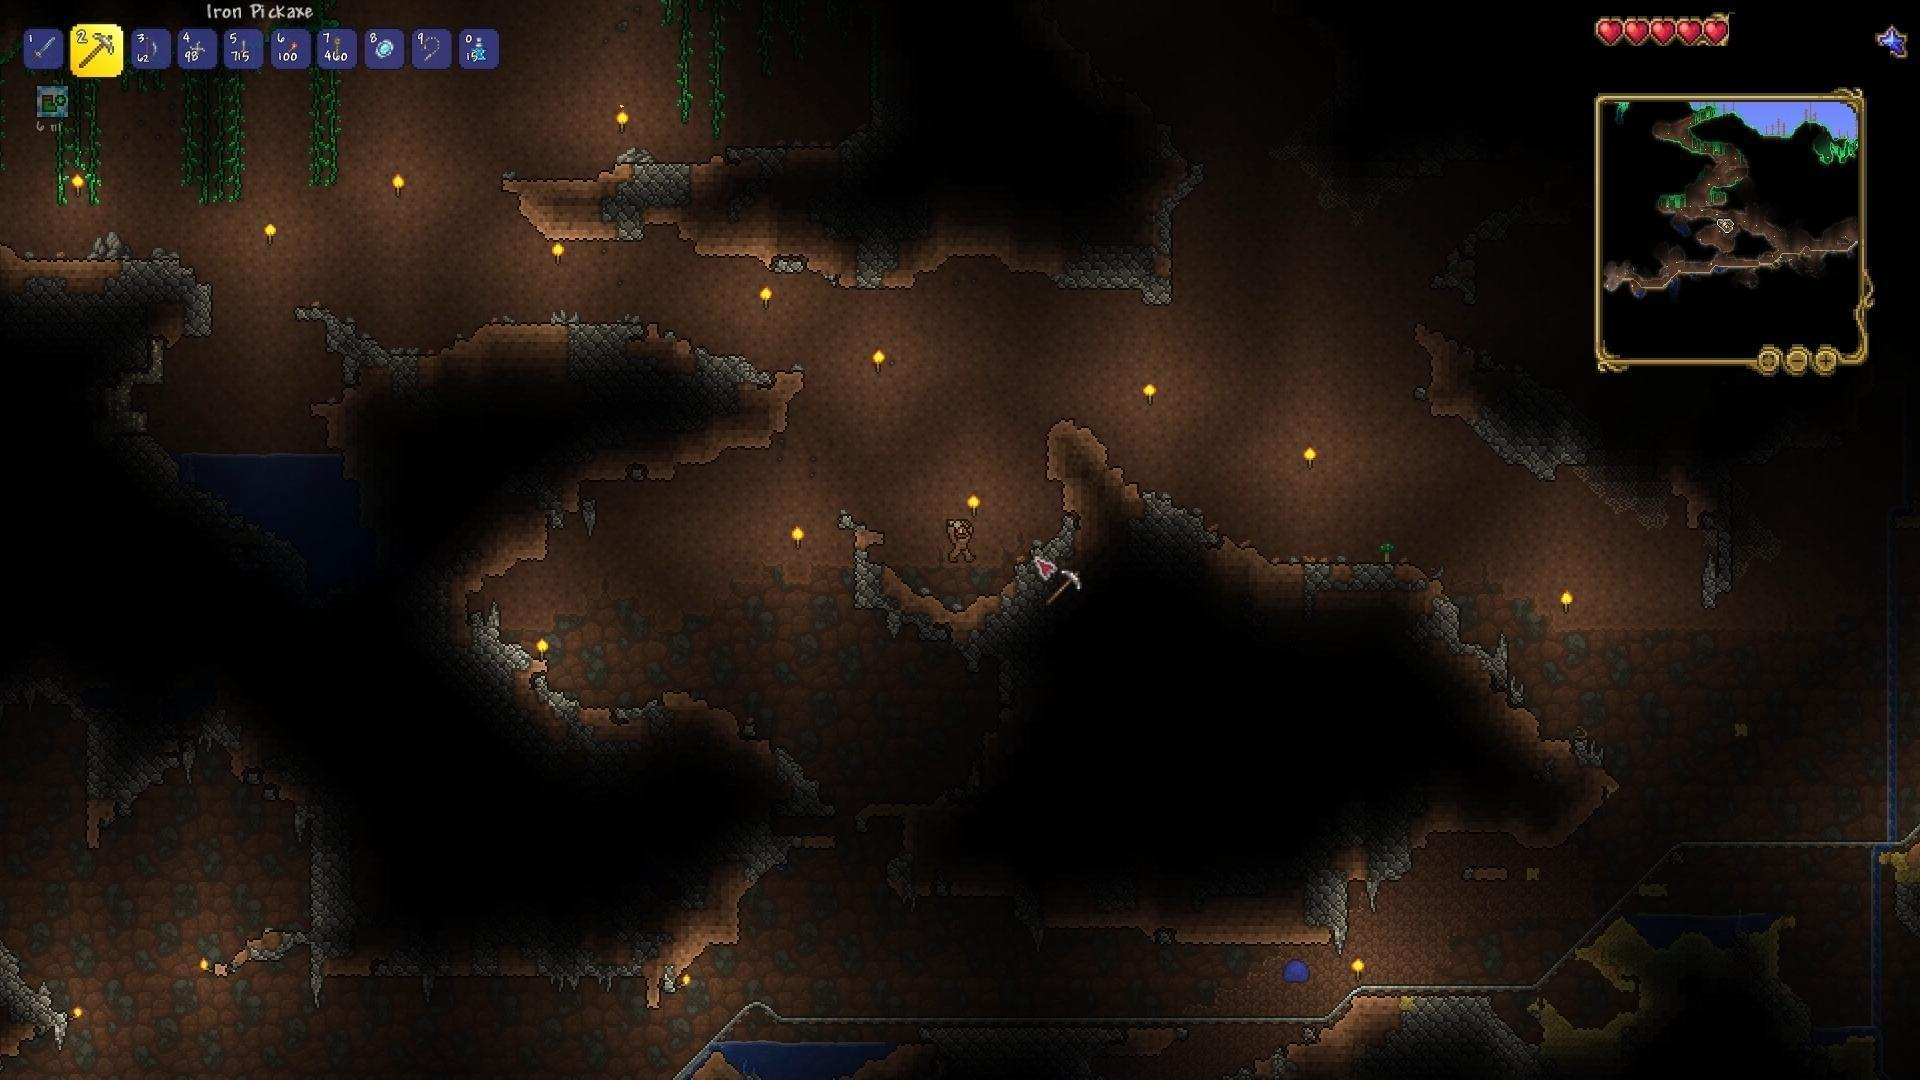heart: (1702, 17, 1733, 51), (1593, 16, 1626, 46), (1676, 15, 1704, 50), (1650, 16, 1676, 49), (1625, 15, 1651, 44)
liquid: (709, 1025, 872, 1068)
stone: (1036, 247, 1179, 319), (1466, 398, 1586, 484), (1407, 997, 1519, 1069), (297, 310, 406, 378), (115, 257, 218, 330), (975, 574, 1048, 674), (301, 845, 355, 978), (4, 935, 63, 1054), (613, 145, 687, 240), (1134, 477, 1221, 545), (684, 343, 773, 409), (1396, 604, 1477, 666), (766, 744, 832, 816), (733, 812, 790, 895), (472, 608, 529, 687), (1307, 853, 1349, 948), (571, 302, 624, 372), (1375, 808, 1418, 884), (1303, 555, 1403, 585)
